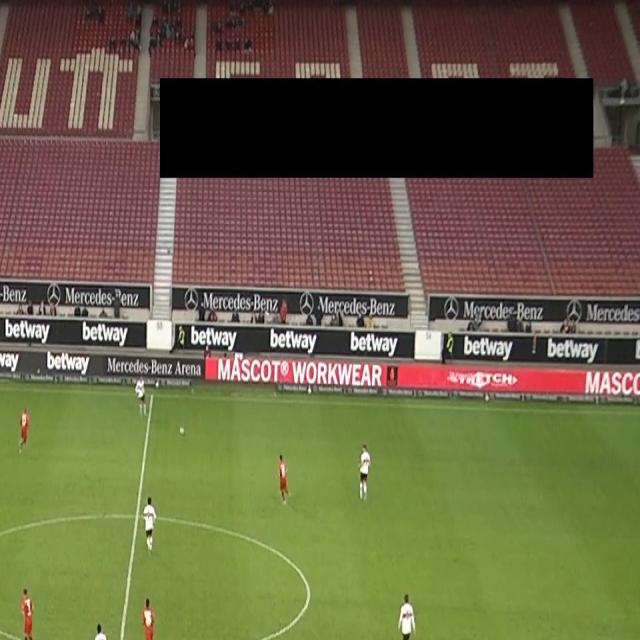ball: (178, 425, 186, 437)
